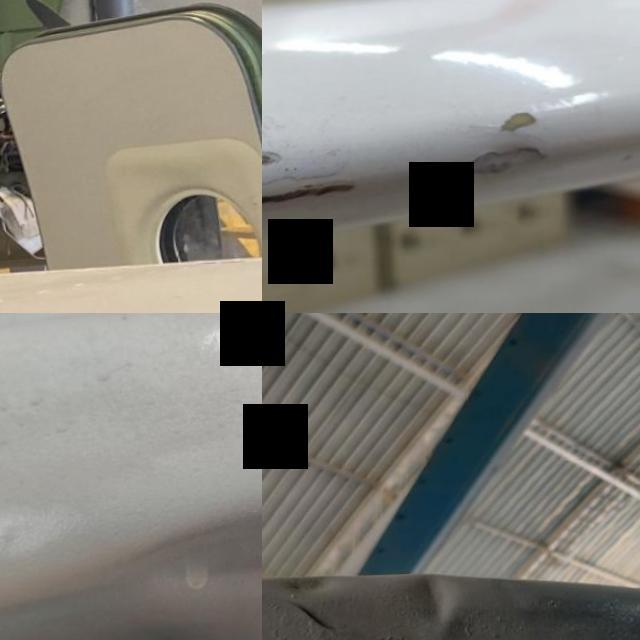Crack: (262, 120, 384, 235), (446, 99, 574, 189)
Dent: (400, 566, 472, 640), (282, 566, 339, 608)
Missing_Fastener: (73, 606, 179, 640)
